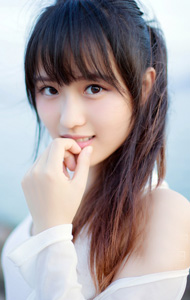face: (34, 27, 128, 172)
